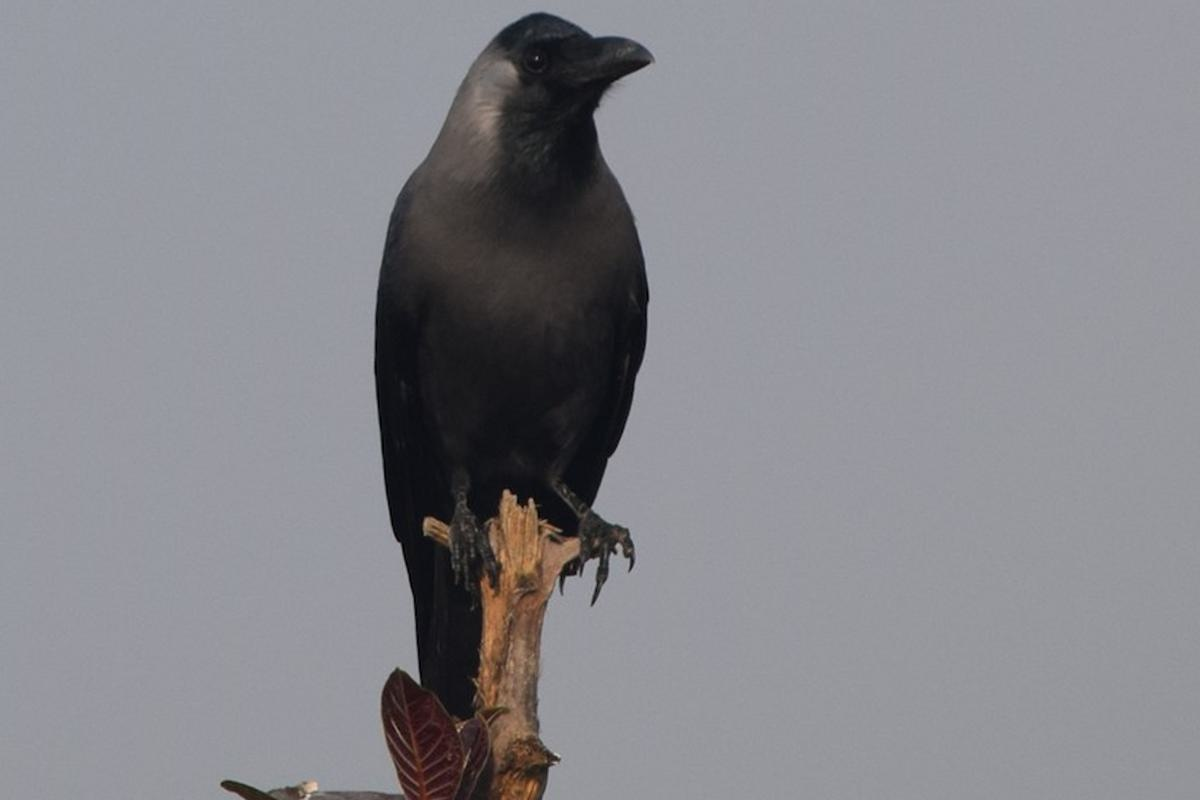crow: (331, 7, 660, 730)
